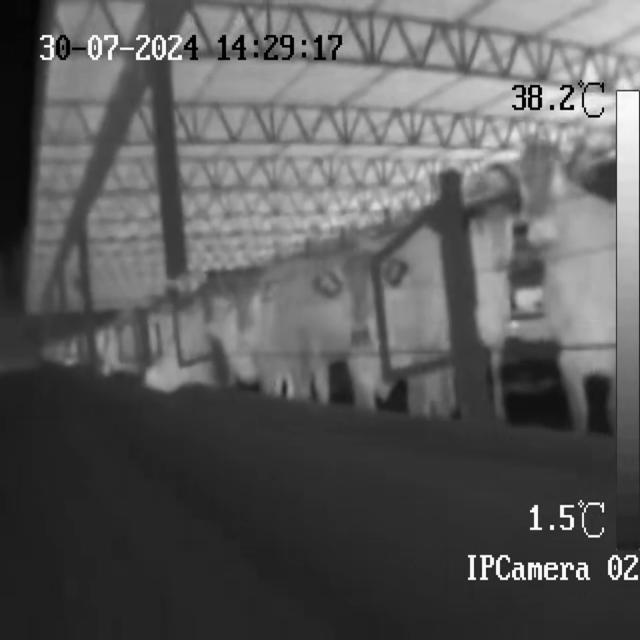eye: (550, 164, 565, 193), (250, 292, 260, 316)
head: (517, 139, 569, 253), (230, 273, 268, 349)
